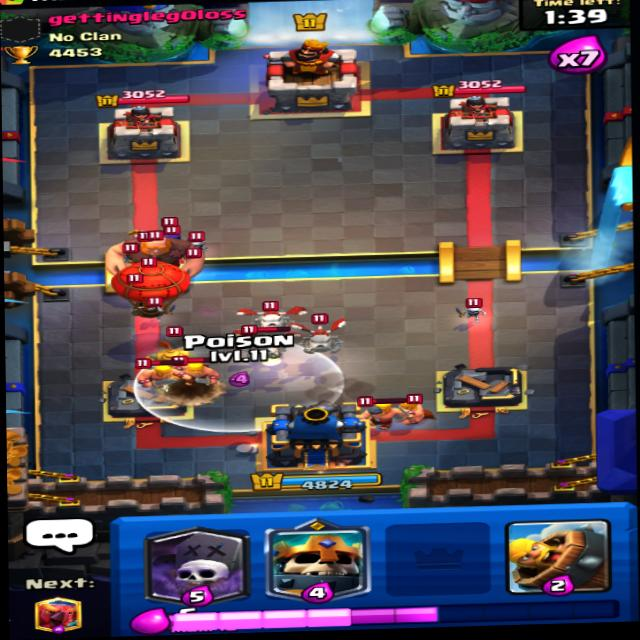Balloon: (116, 252, 191, 324)
Barbarian: (357, 396, 408, 430), (171, 354, 230, 383), (137, 359, 183, 388), (395, 397, 447, 422)
Giant: (105, 228, 202, 286)
Prince: (150, 331, 221, 382)
Skeleton: (461, 296, 492, 320), (184, 230, 214, 251), (154, 263, 175, 284)
Skeletondragon: (235, 298, 300, 338), (291, 312, 354, 353), (237, 325, 304, 361)
witch: (130, 218, 191, 249)
